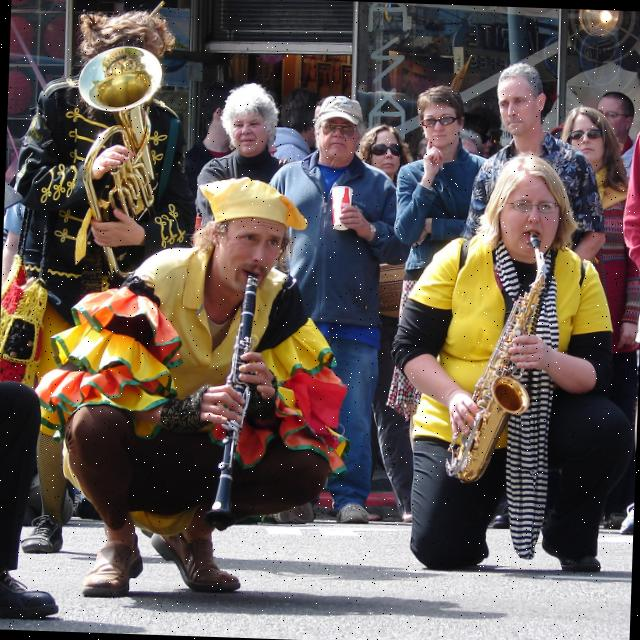clarinet: (205, 270, 260, 516)
